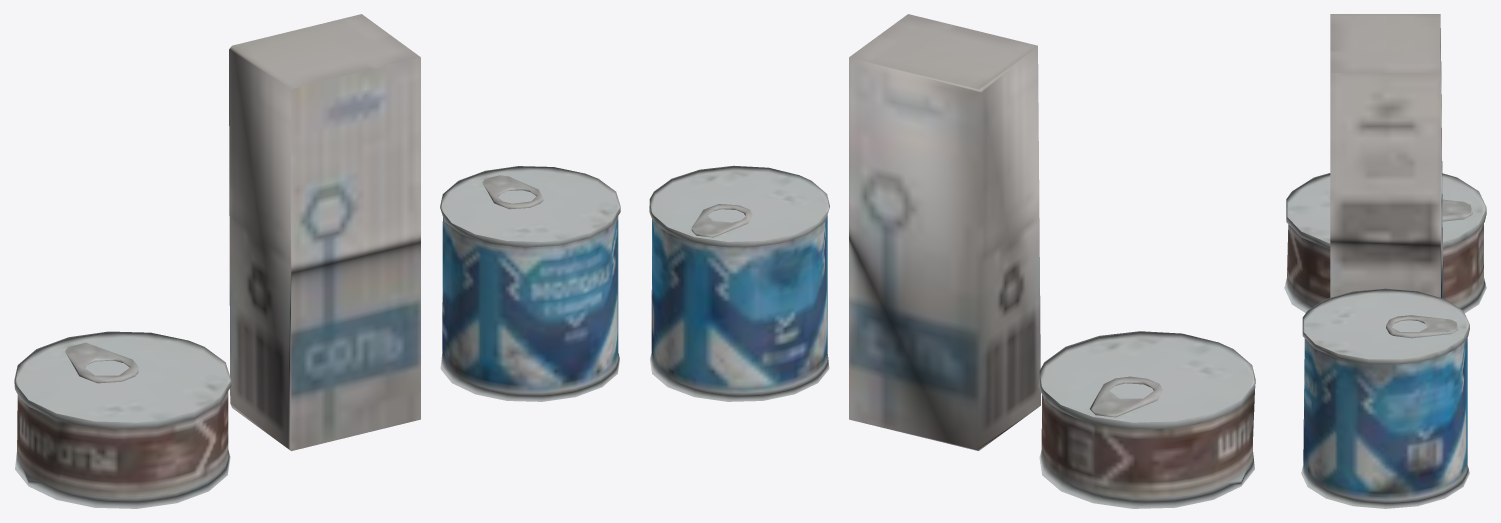
File: foodCans_lo.glb
3 renders of one model, left to right at view 1: azimuth 30°, elevation 25°; view 2: azimuth 150°, elevation 25°; view 3: azimuth 270°, elevation 25°, orthographic. The views are drawn at different scales.
Visible parts, largest first — view 1: russian_food_cans_01_salt_box, russian_food_cans_01_can_cond, russian_food_cans_01_can_fish; view 2: russian_food_cans_01_salt_box, russian_food_cans_01_can_cond, russian_food_cans_01_can_fish; view 3: russian_food_cans_01_can_cond, russian_food_cans_01_salt_box, russian_food_cans_01_can_fish.
Part boxes in pixels (<box>): russian_food_cans_01_salt_box: <box>229,14,420,450</box>; russian_food_cans_01_can_cond: <box>440,166,620,401</box>; russian_food_cans_01_can_fish: <box>14,331,231,508</box>; russian_food_cans_01_salt_box: <box>849,14,1040,450</box>; russian_food_cans_01_can_cond: <box>649,165,829,401</box>; russian_food_cans_01_can_fish: <box>1038,331,1255,508</box>; russian_food_cans_01_can_cond: <box>1301,288,1469,508</box>; russian_food_cans_01_salt_box: <box>1330,14,1443,298</box>; russian_food_cans_01_can_fish: <box>1284,173,1486,312</box>.
Size of the model in its own units: 0.1424 by 0.0849 by 0.0462.
Materials: 1 (1 with a texture image).
